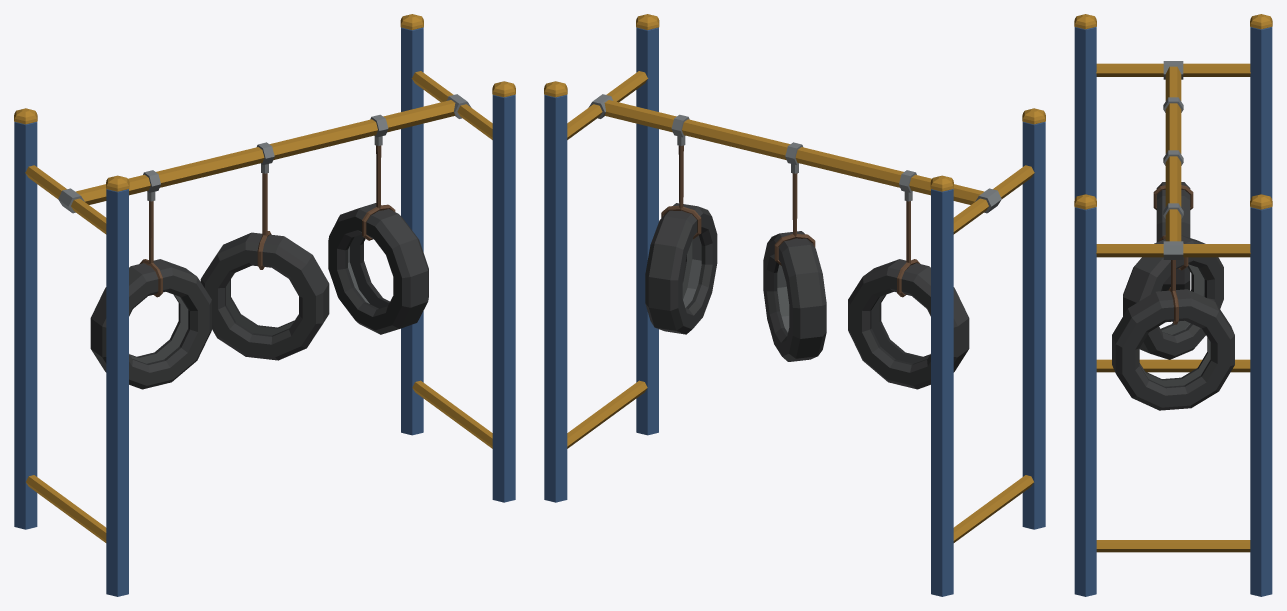
File: SM_Props_City_PlayGround_Equipment_05.fbx
3 renders of one model, left to right at view 1: azimuth 30°, elevation 25°; view 2: azimuth 150°, elevation 25°; view 3: azimuth 270°, elevation 25°, orthographic. The views are drawn at different scales.
Parts seen in each view (by area): view 1: SM_Props_City_PlayGround_Equipment_05; view 2: SM_Props_City_PlayGround_Equipment_05; view 3: SM_Props_City_PlayGround_Equipment_05.
Part boxes in pixels (box(x1,y1,x2,y2)): SM_Props_City_PlayGround_Equipment_05: box(14, 14, 515, 596); SM_Props_City_PlayGround_Equipment_05: box(544, 14, 1045, 596); SM_Props_City_PlayGround_Equipment_05: box(1074, 14, 1272, 596).
Bounding box in the file's own units: 361 × 348 × 158.
